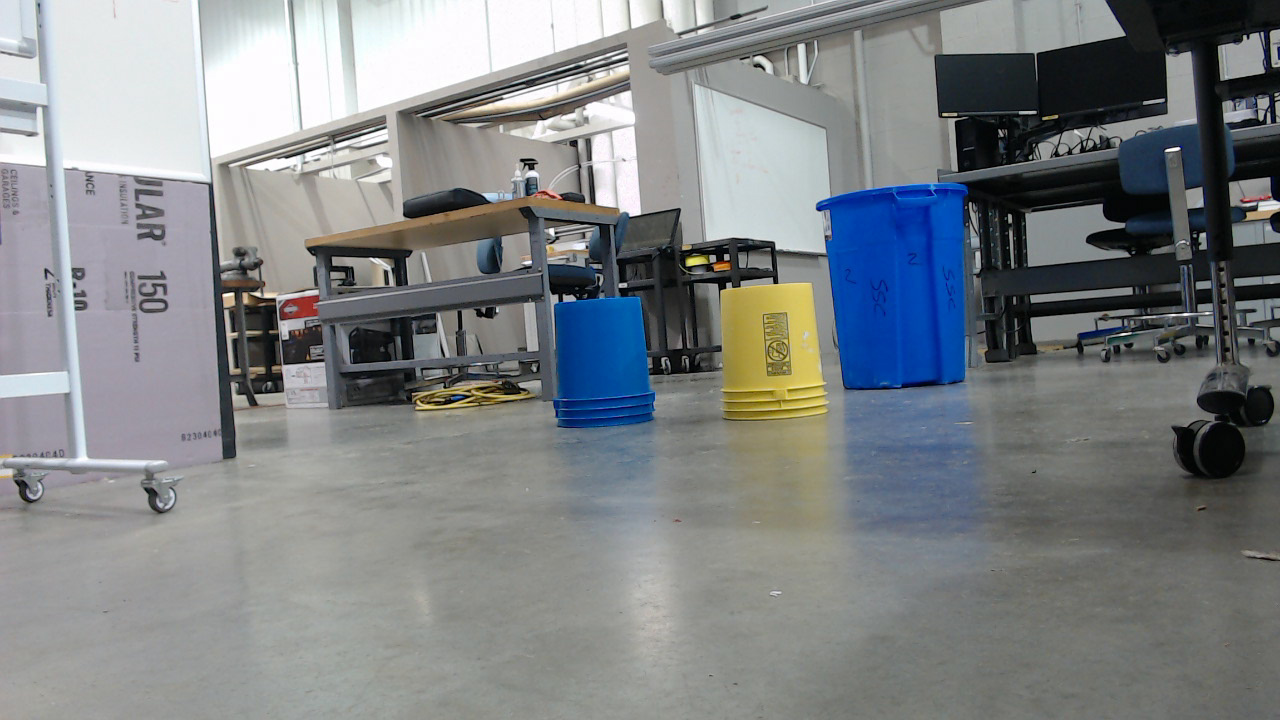blue_bucket: (548, 300, 659, 436)
yellow_bucket: (722, 286, 837, 430)
